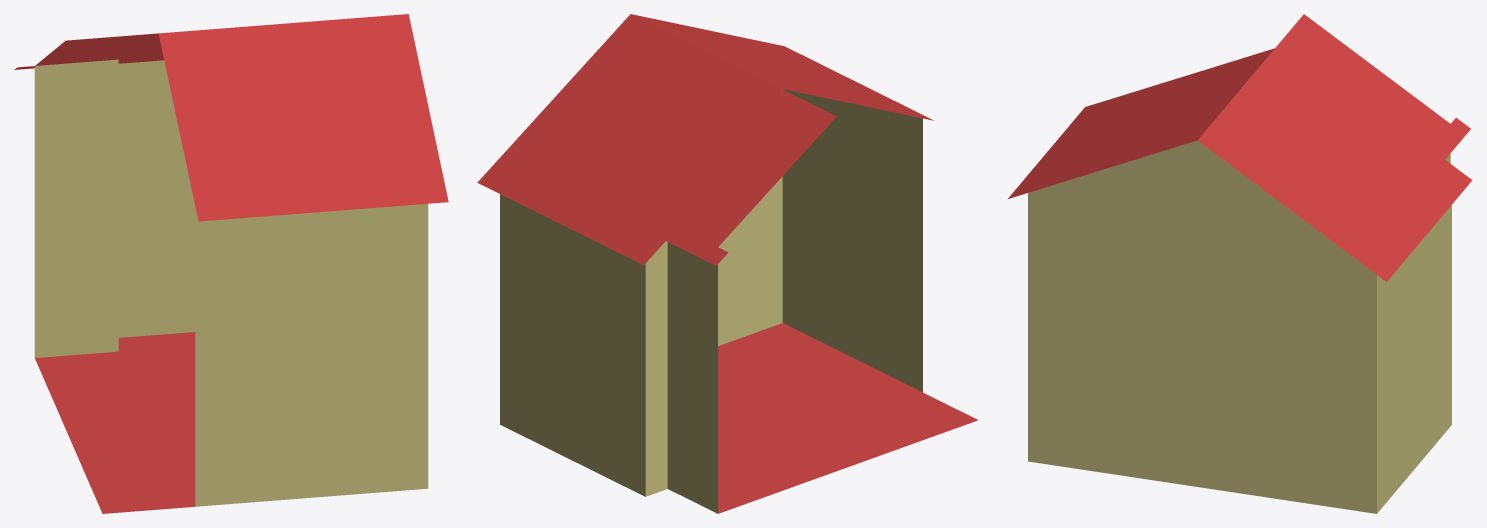
The picture shows the model from 3 angles, left to right: view 1: azimuth 30°, elevation 25°; view 2: azimuth 150°, elevation 25°; view 3: azimuth 270°, elevation 25°; orthographic projection. The views are drawn at different scales.
Size of the model in its own units: 13.33 by 14.46 by 12.13.
